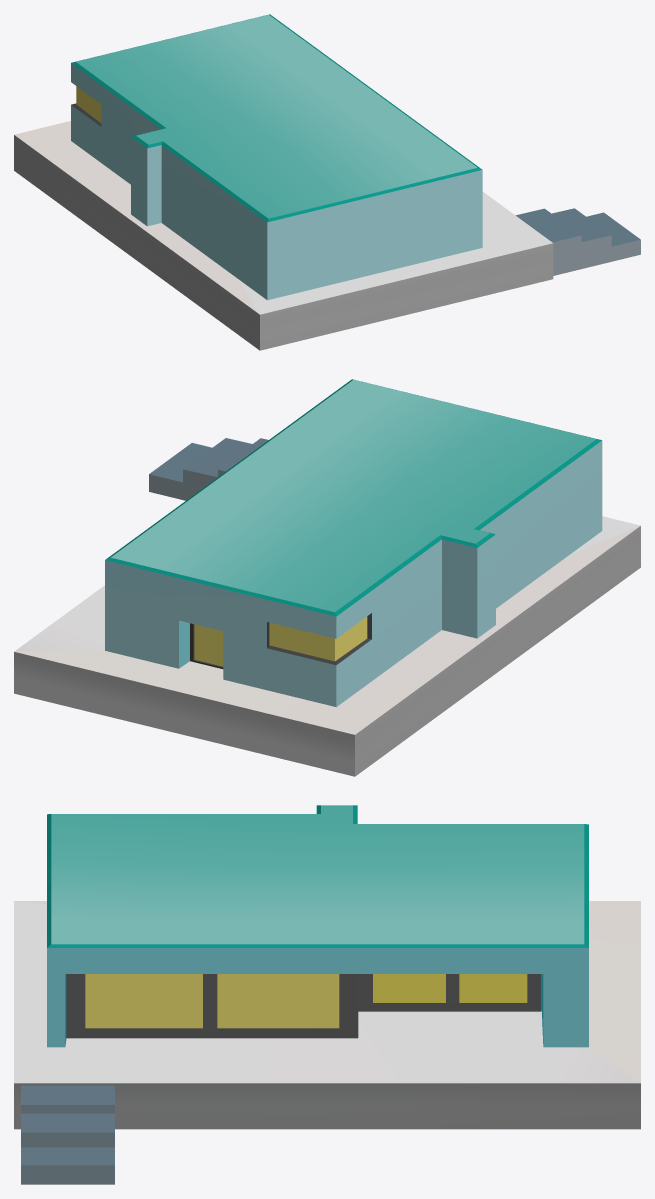
Rendered from House_lv1_v2.FBX.
3 renders of one model, top to bottom at view 1: azimuth 30°, elevation 25°; view 2: azimuth 150°, elevation 25°; view 3: azimuth 270°, elevation 25°, orthographic. The views are drawn at different scales.
Parts seen in each view (by area): view 1: LV1; view 2: LV1; view 3: LV1.
Part boxes in pixels (x1,y1,x2,y2): LV1: (14,14,640,350); LV1: (14,379,640,776); LV1: (14,805,640,1184).
Bounding box in the file's own units: 16.57 × 4.77 × 18.4.
